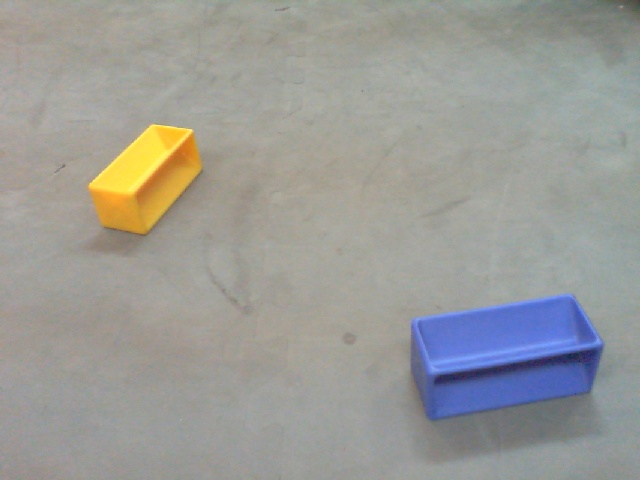BlueSample: (403, 293, 607, 425)
YellowSample: (86, 122, 207, 240)
